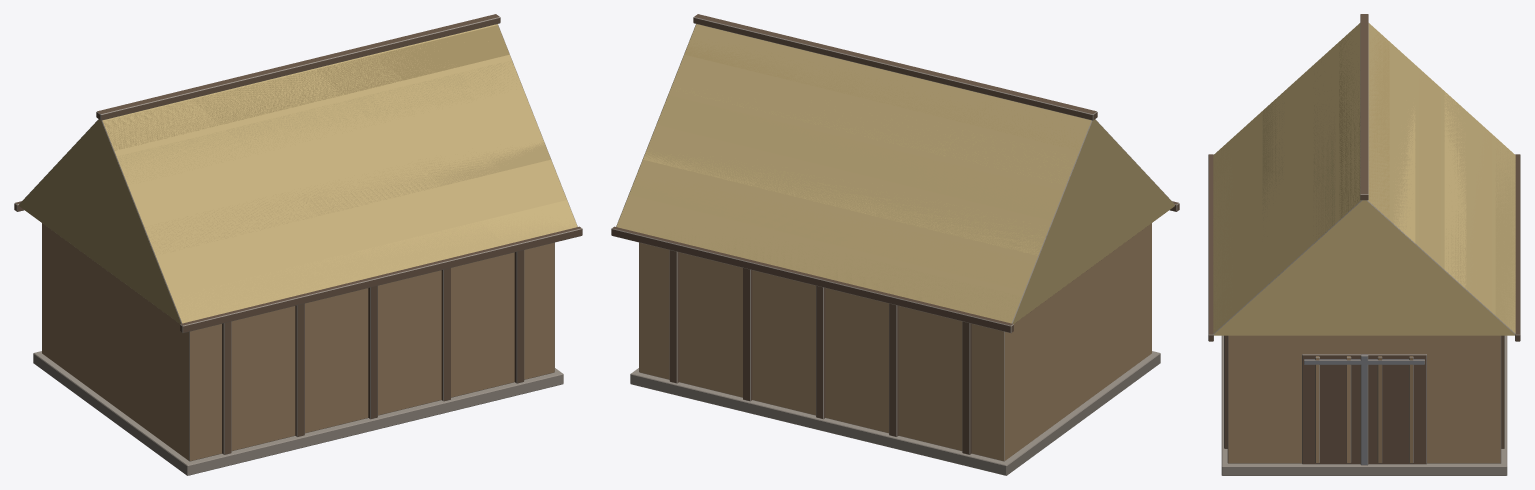
The model's file is SM_Kit_celeiro.fbx.
3 renders of one model, left to right at view 1: azimuth 30°, elevation 25°; view 2: azimuth 150°, elevation 25°; view 3: azimuth 270°, elevation 25°, orthographic. The views are drawn at different scales.
Visible parts, largest first — view 1: SM_Kit_celeiro; view 2: SM_Kit_celeiro; view 3: SM_Kit_celeiro.
Part boxes in pixels (box(x1,y1,x2,y2)): SM_Kit_celeiro: box(14, 14, 582, 475); SM_Kit_celeiro: box(611, 14, 1179, 475); SM_Kit_celeiro: box(1208, 14, 1520, 475).
Size of what is drawn, in the model's own units: 1094 by 810 by 798.
